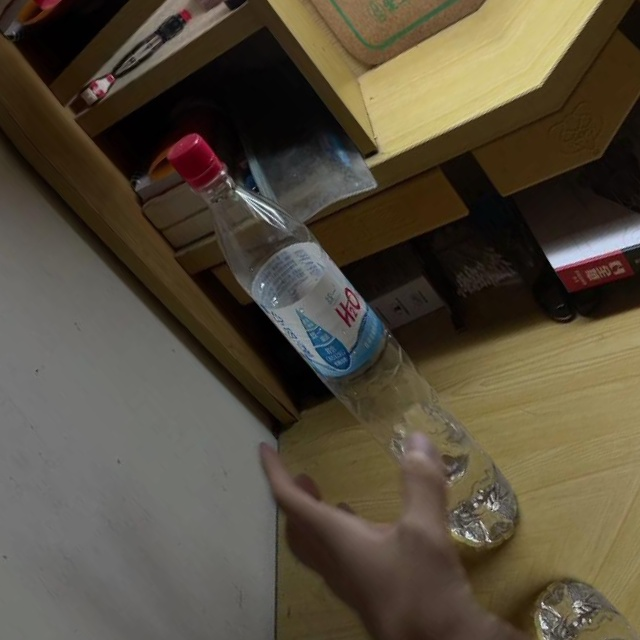Water: (144, 113, 545, 568)
